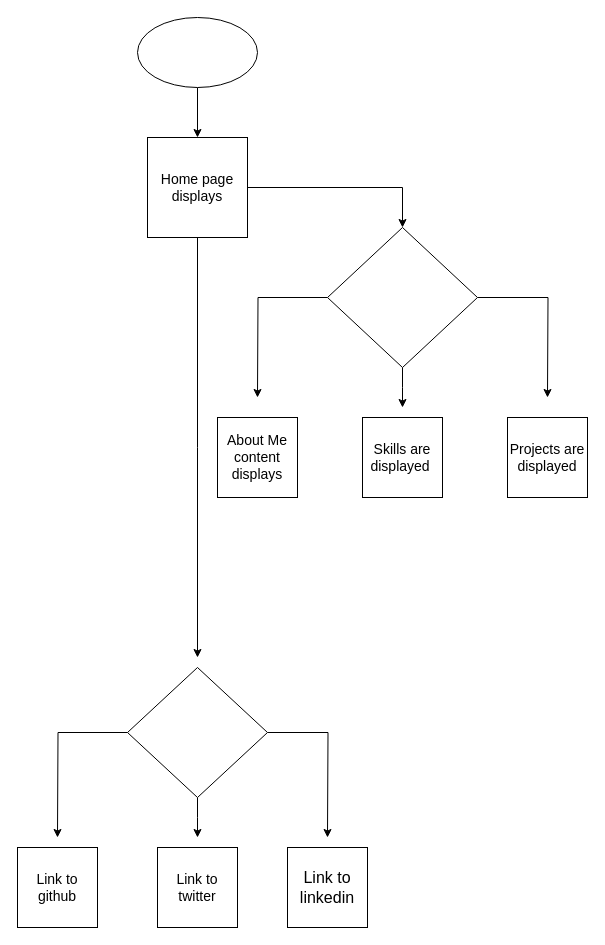
Image size: 605x945. Some labels were removed from this diagram. Each missing label, with the centre of its shape:
"Contact information" belongs at point (197, 732).
"user clicks on a link in the header" belongs at point (402, 297).
"Website opens" belongs at point (197, 52).
